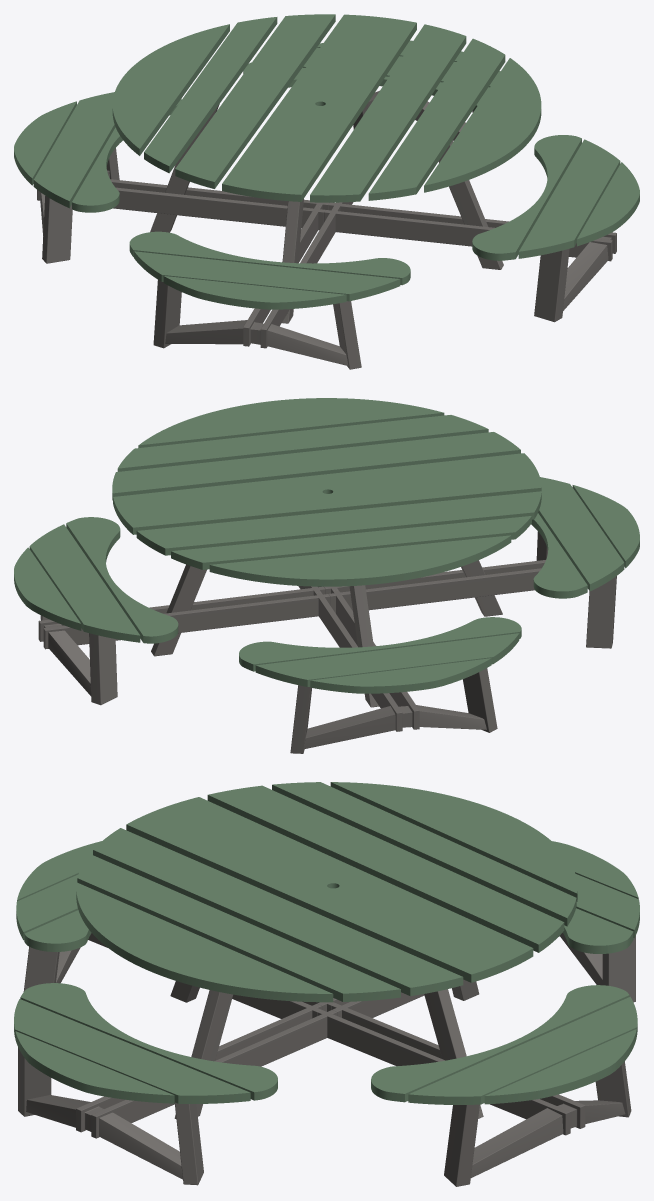
The model's file is park_bench.glb.
3 renders of one model, top to bottom at view 1: azimuth 30°, elevation 25°; view 2: azimuth 150°, elevation 25°; view 3: azimuth 270°, elevation 25°, orthographic. The views are drawn at different scales.
Parts seen in each view (by area): view 1: pCylinder3; view 2: pCylinder3; view 3: pCylinder3.
Boxes of the visible parts, bbox=[...] form: pCylinder3: bbox=[14, 14, 639, 369]; pCylinder3: bbox=[14, 398, 639, 753]; pCylinder3: bbox=[14, 782, 639, 1186].
Size of the model in its own units: 0.1358 by 0.0405 by 0.1358.
